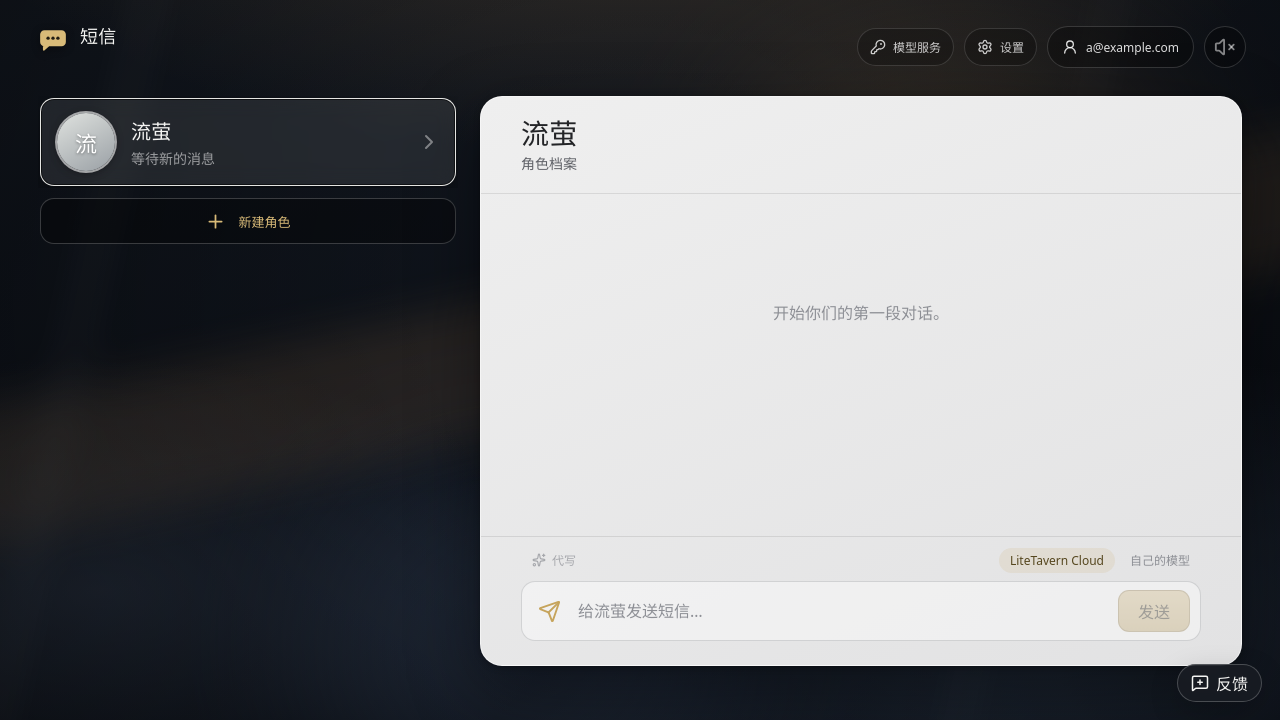
Test case: HSR message shell › does not let one concurrent-generation refusal disable the next input
The width and height of the screenshot is (1280, 720).
Type "第一条" into the text box with placeholder "给流萤发送短信…".
click(841, 611); type("第一条")  # box [576,597,1106,625]
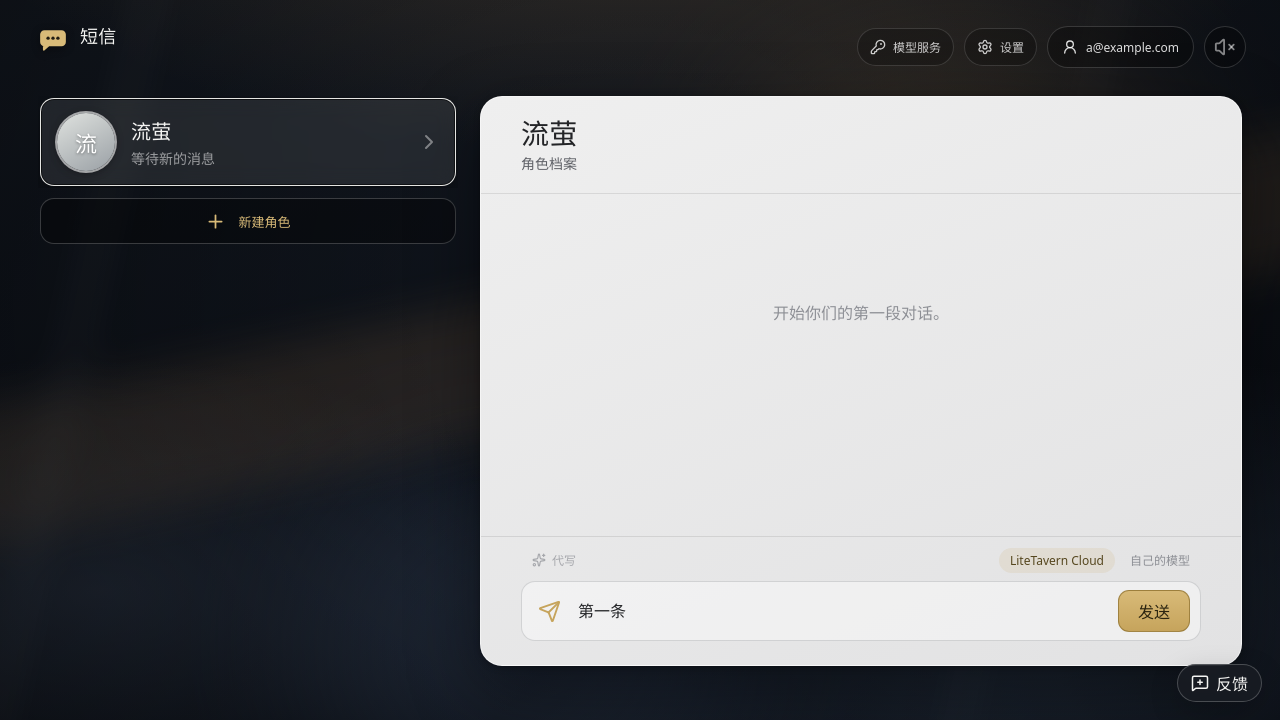
Click the button with aria-label "发送消息".
click(1154, 611)  # box [1118,590,1190,632]
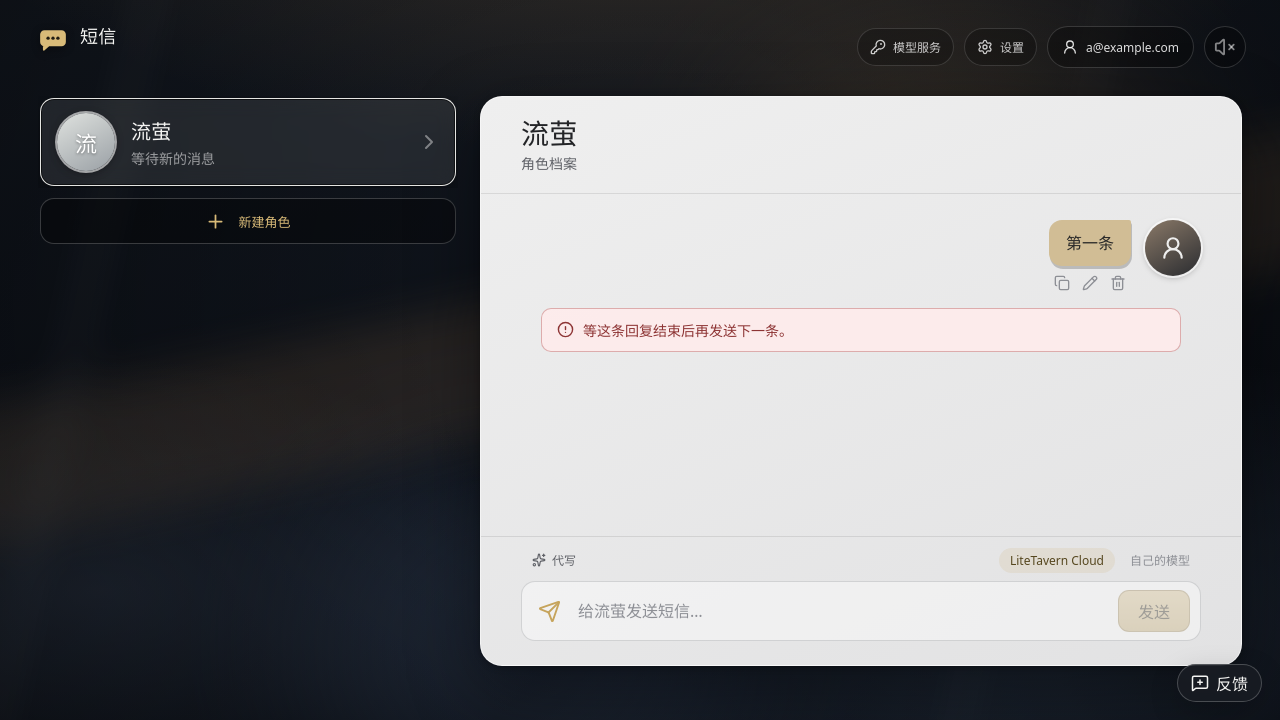
Now the text "等这条回复结束后再发送下一条。" is shown, box [541,308,1181,352]
Type "再试一次" into the text box with placeholder "给流萤发送短信…".
click(841, 611); type("再试一次")  # box [576,597,1106,625]
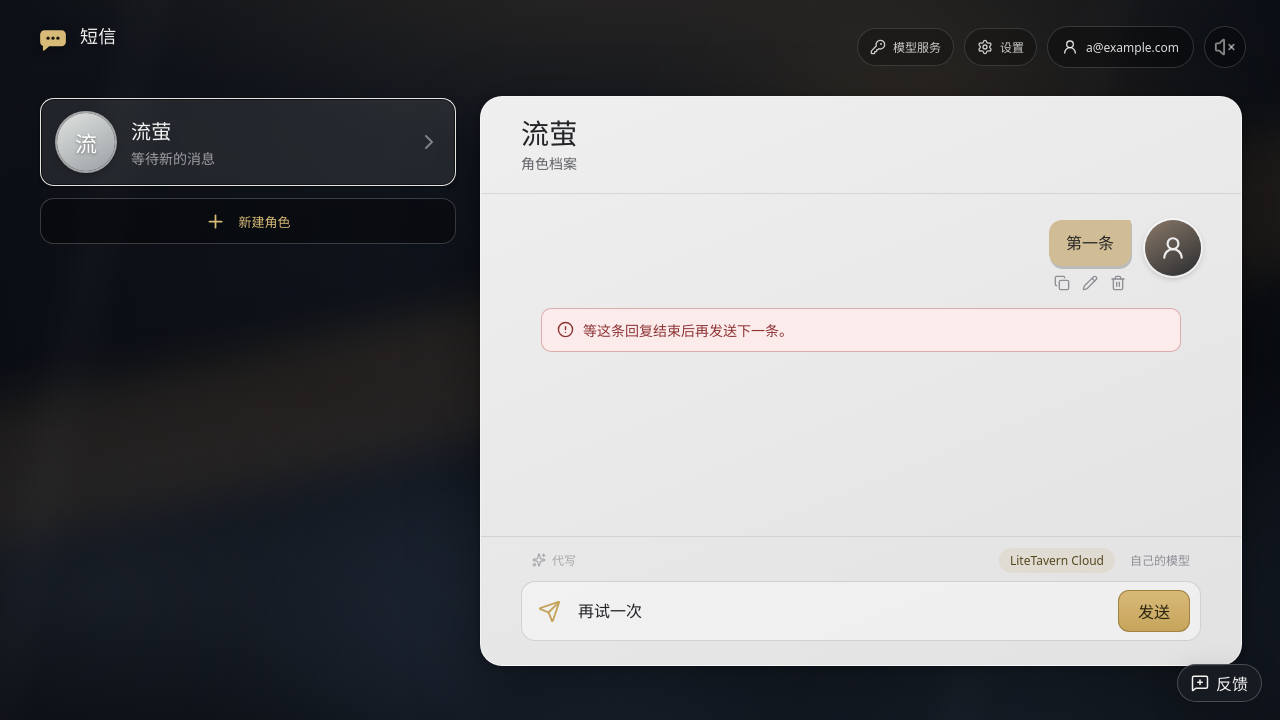
Now the button with aria-label "发送消息" is enabled, box [1118,590,1190,632]
